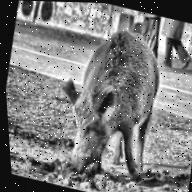boar: (25, 8, 184, 192)
